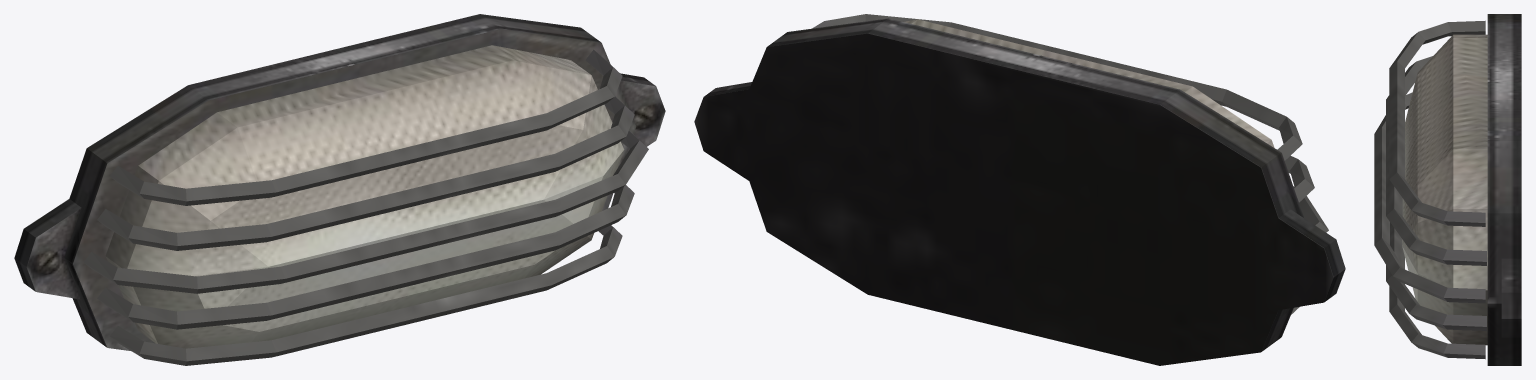
The model's file is Light.FBX.
The picture shows the model from 3 angles, left to right: view 1: azimuth 30°, elevation 25°; view 2: azimuth 150°, elevation 25°; view 3: azimuth 270°, elevation 25°; orthographic projection. The views are drawn at different scales.
Parts seen in each view (by area): view 1: Light; view 2: Light; view 3: Light.
Boxes of the visible parts, x1=… form: Light: x1=14, y1=14, x2=665, y2=365; Light: x1=694, y1=14, x2=1345, y2=365; Light: x1=1374, y1=14, x2=1521, y2=365.
Size of the model in its own units: 14.83 by 3.59 by 5.79.
